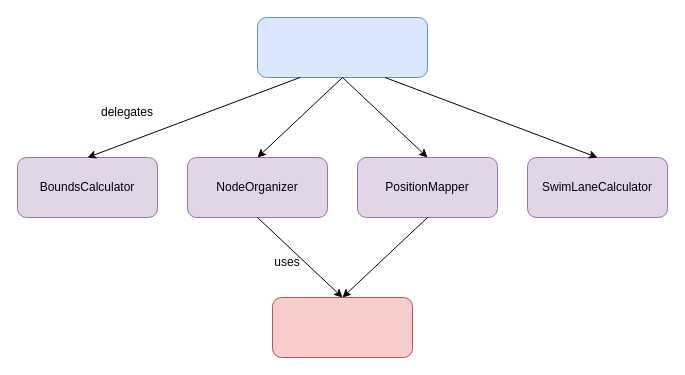
The diagram is 685 pixels wide and 375 high, and some of its shapes have lost their labels. The shapes that lost their labels are listed below. From the top down, each one's box as (x1, y1, x2, y2) in pixels, then its label:
(256, 16, 428, 78): PositionCalculator (Orchestrator)
(272, 296, 412, 358): PropertyValueResolver
